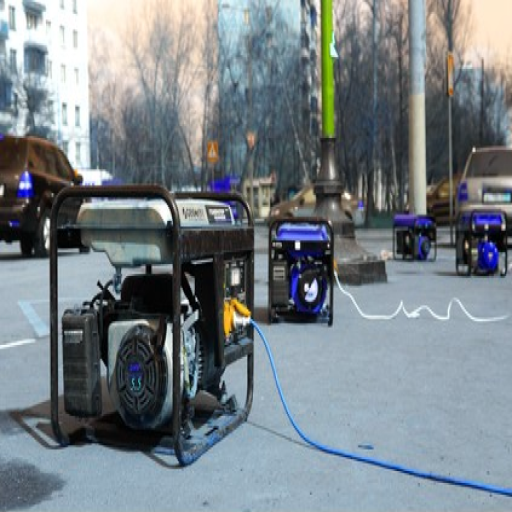portable_generator: (48, 185, 257, 468), (267, 216, 335, 327), (455, 208, 509, 279), (392, 215, 438, 265)
